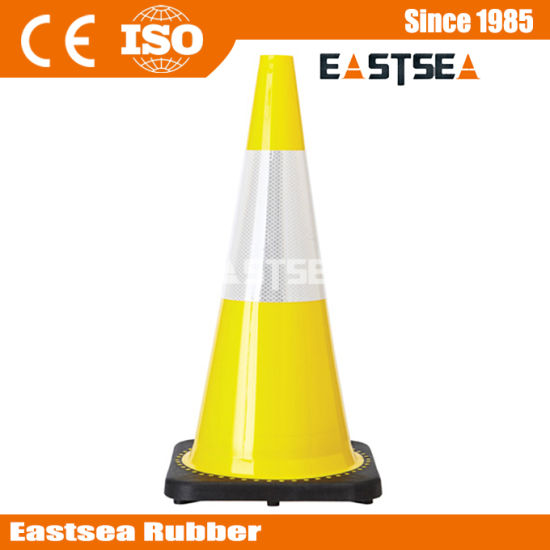yellowC: (174, 52, 396, 512)
